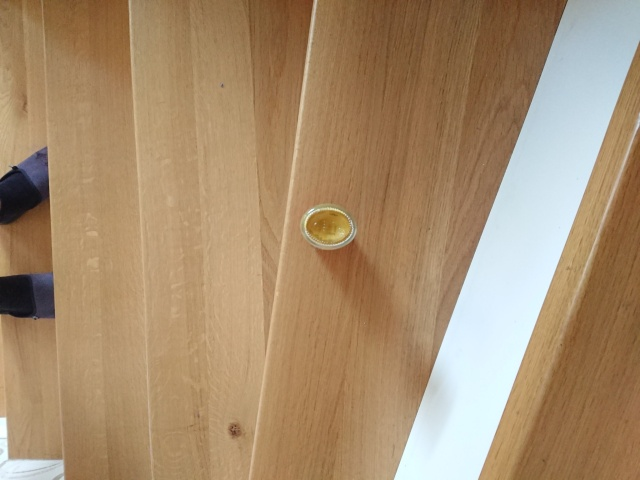Kotanyi Curry Spices Mix 70g: (298, 202, 359, 253)
